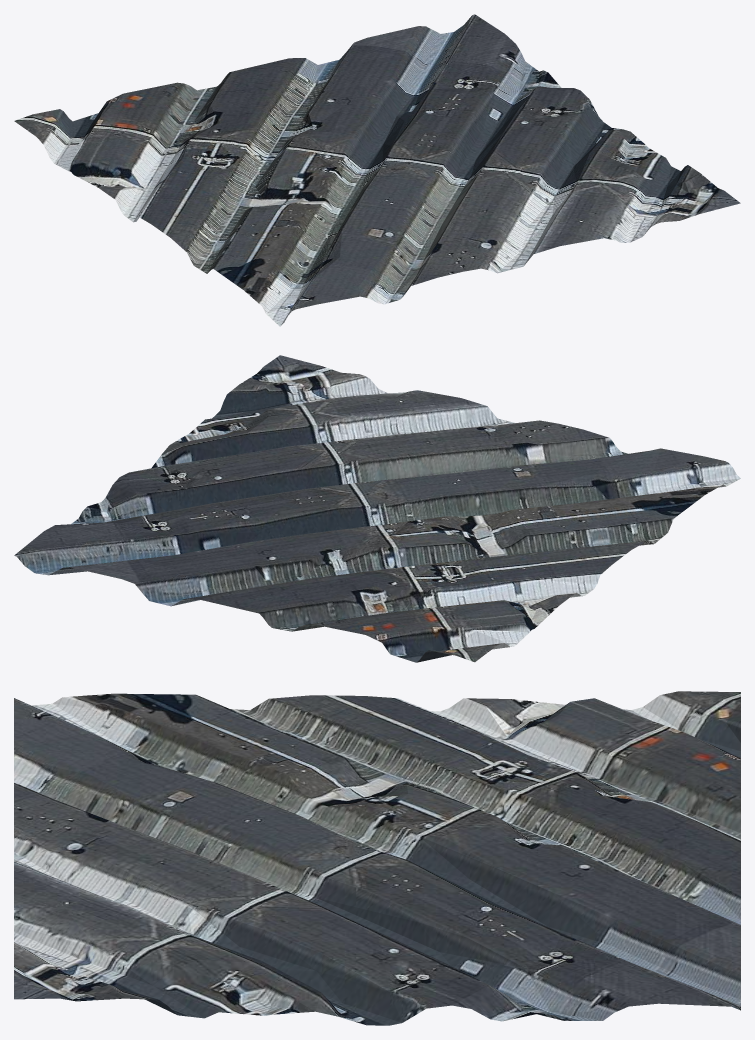
Rendered from map_15_8184_13785.dae.
The picture shows the model from 3 angles, top to bottom: view 1: azimuth 30°, elevation 25°; view 2: azimuth 150°, elevation 25°; view 3: azimuth 270°, elevation 25°; orthographic projection. The views are drawn at different scales.
Visible parts, largest first — view 1: Ter0; view 2: Ter0; view 3: Ter0.
Part boxes in pixels (<box>): Ter0: <box>14,14,740,326</box>; Ter0: <box>14,355,740,662</box>; Ter0: <box>14,691,740,1025</box>.
Size of the model in its own units: 63.88 by 63.88 by 3.12.
3 materials, 3 textured.
